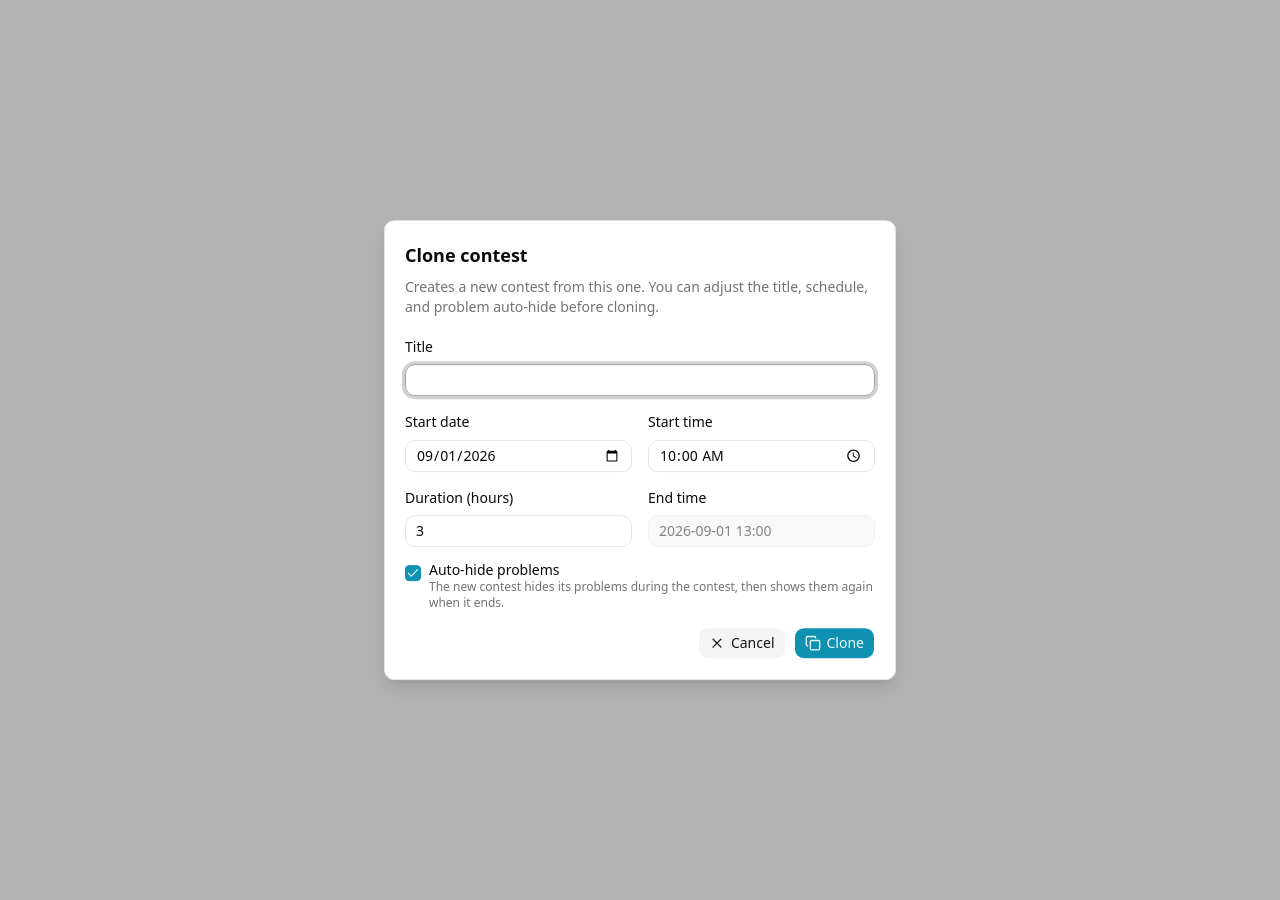
Test case: contest clone dialog › blocks confirmation while the settings are invalid
The width and height of the screenshot is (1280, 900).
Click the button "Clone". click: {"x": 834, "y": 643}
box: [794,627,875,659]
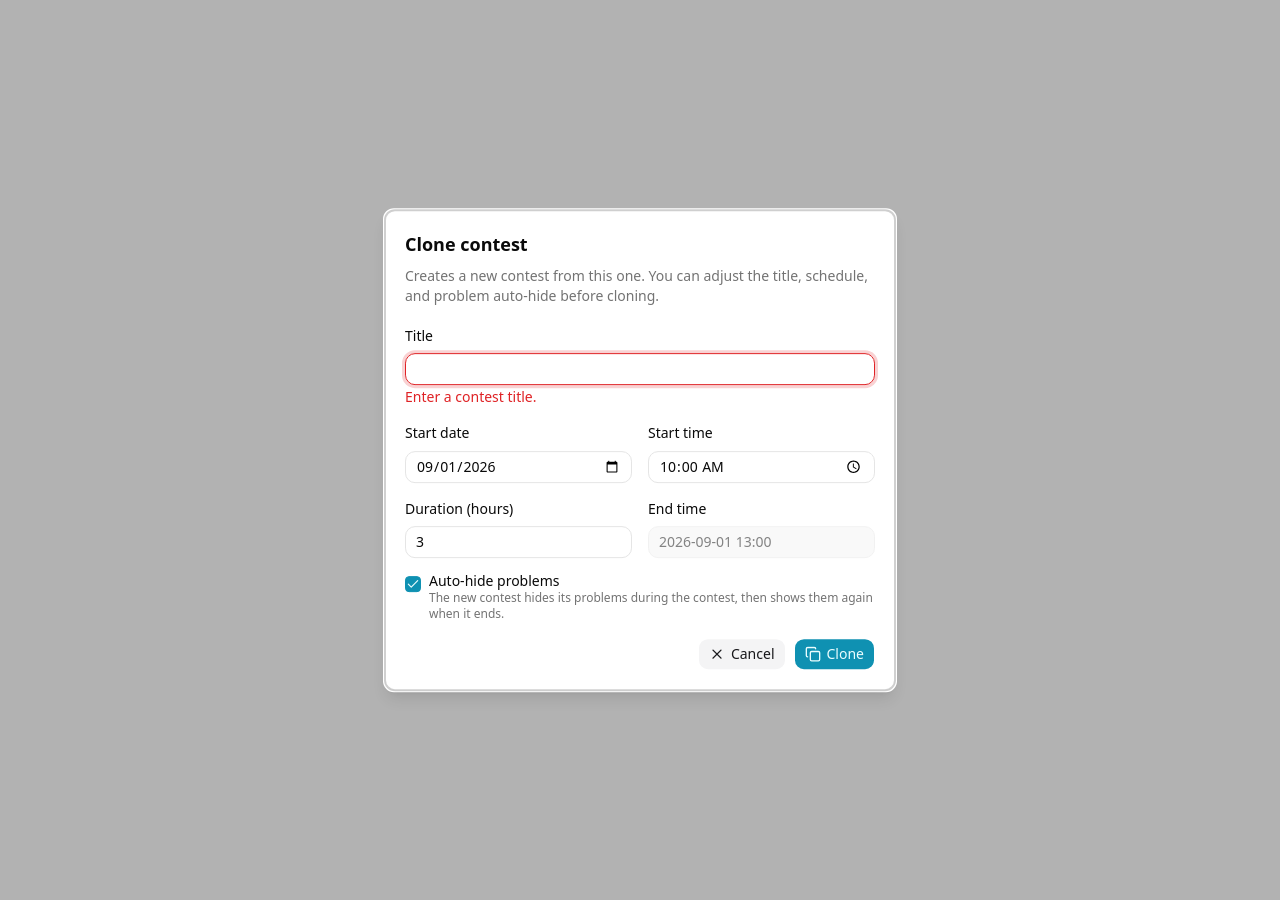
expect the message reads "Enter a contest title.": met, box [405,387,536,406]
